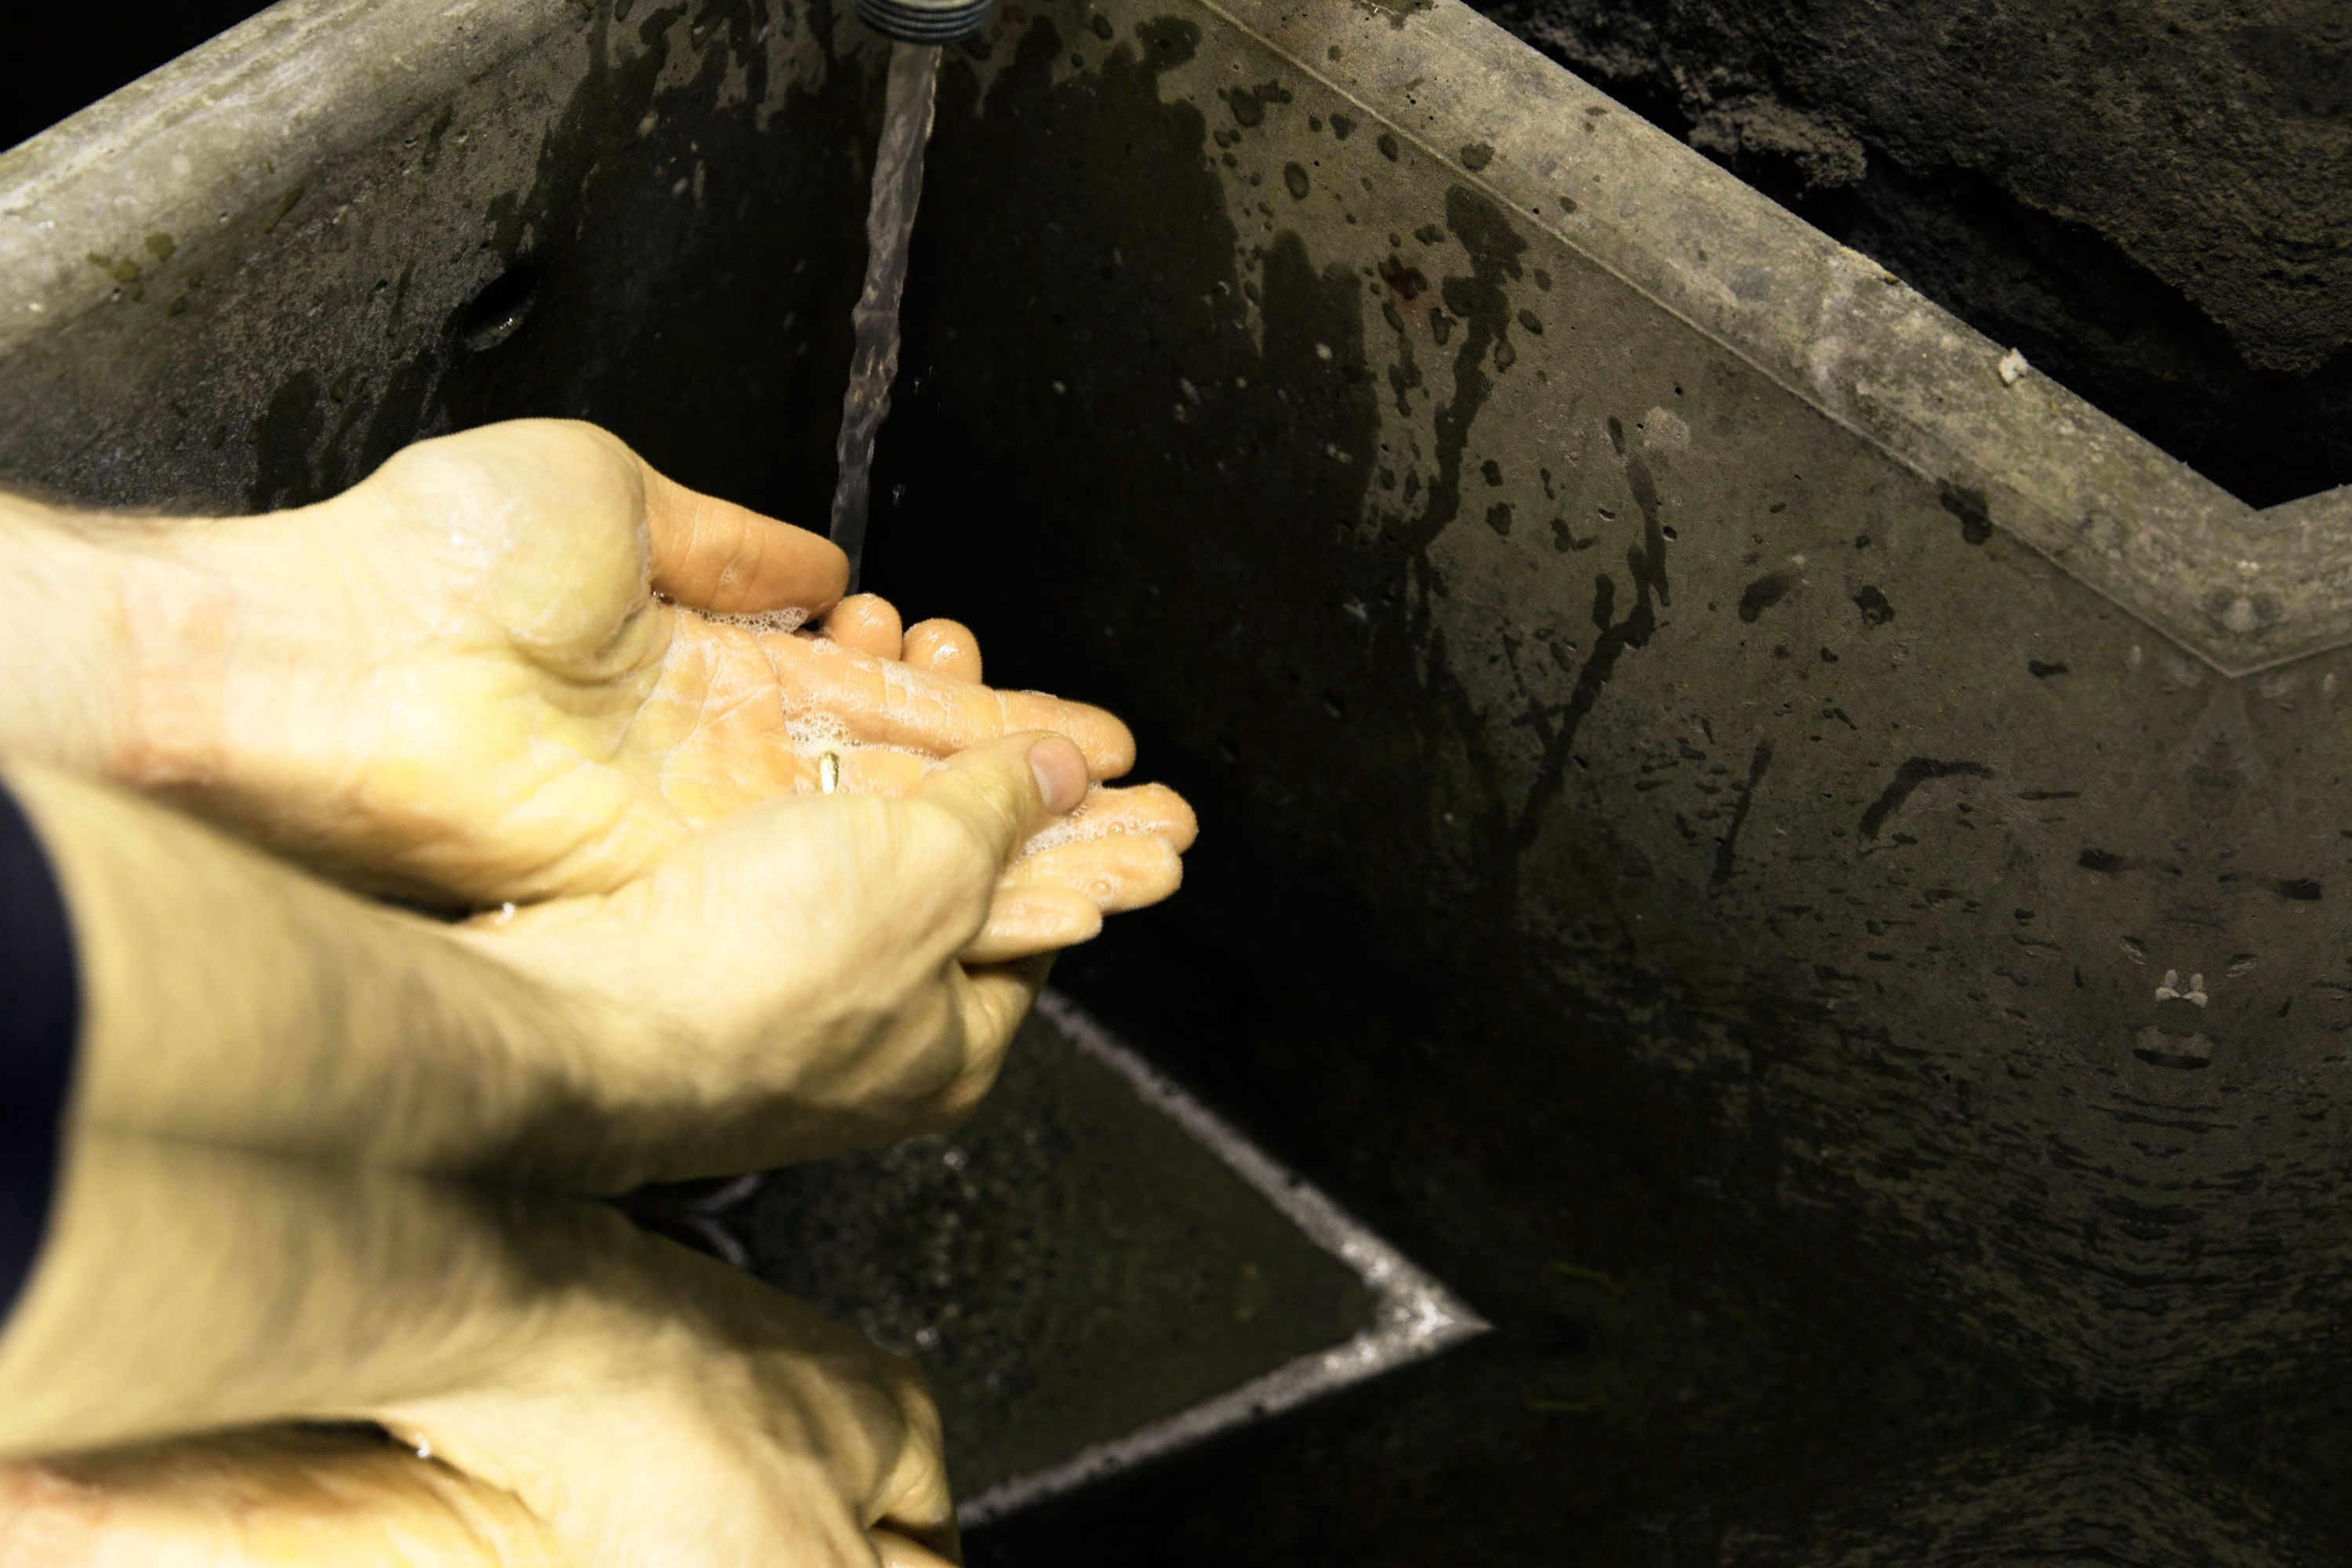washing hand: (80, 0, 1559, 1306)
